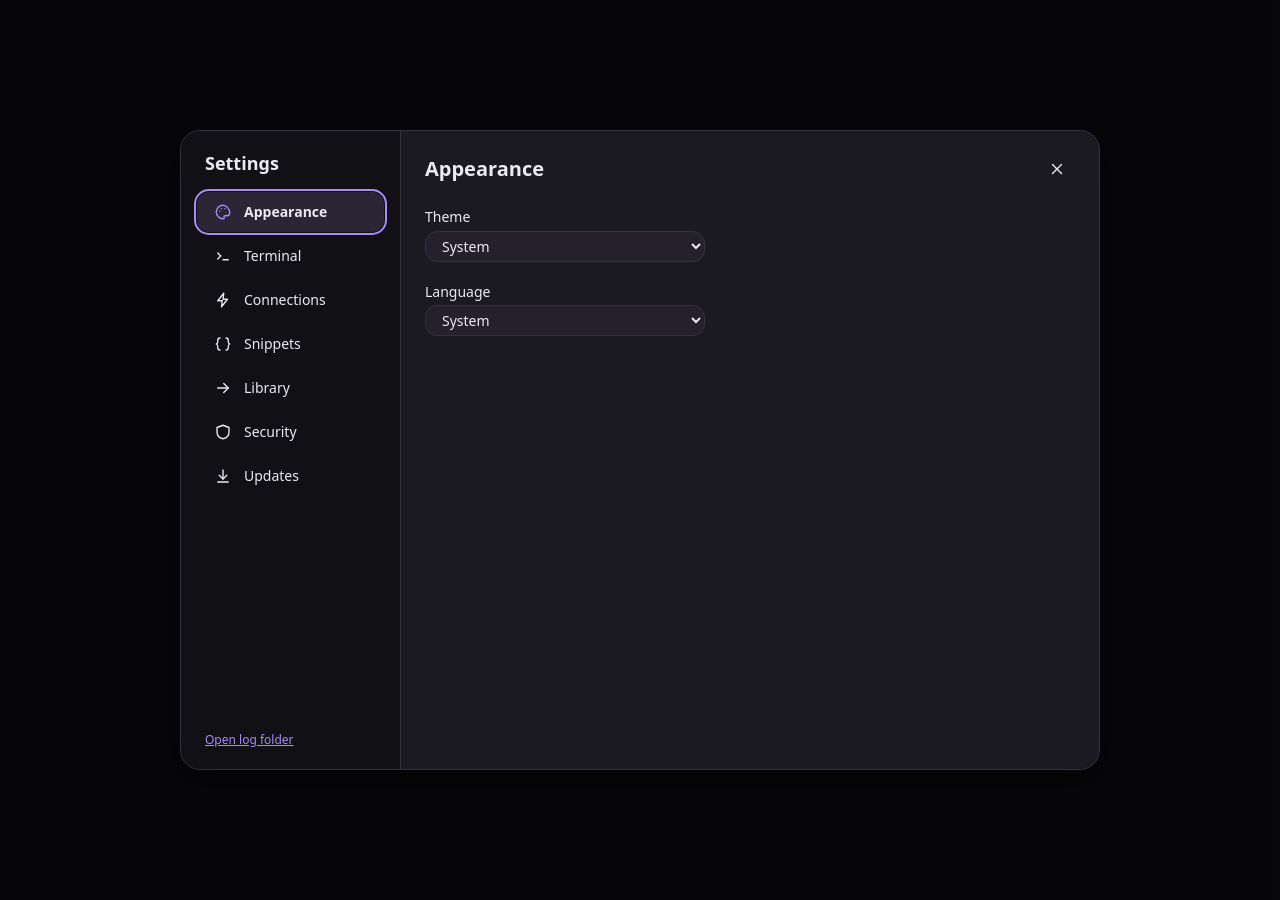
Test: font size outside 8..32 rejected
The width and height of the screenshot is (1280, 900).
Click the button "Terminal" at [290, 256], box [197, 236, 384, 276]
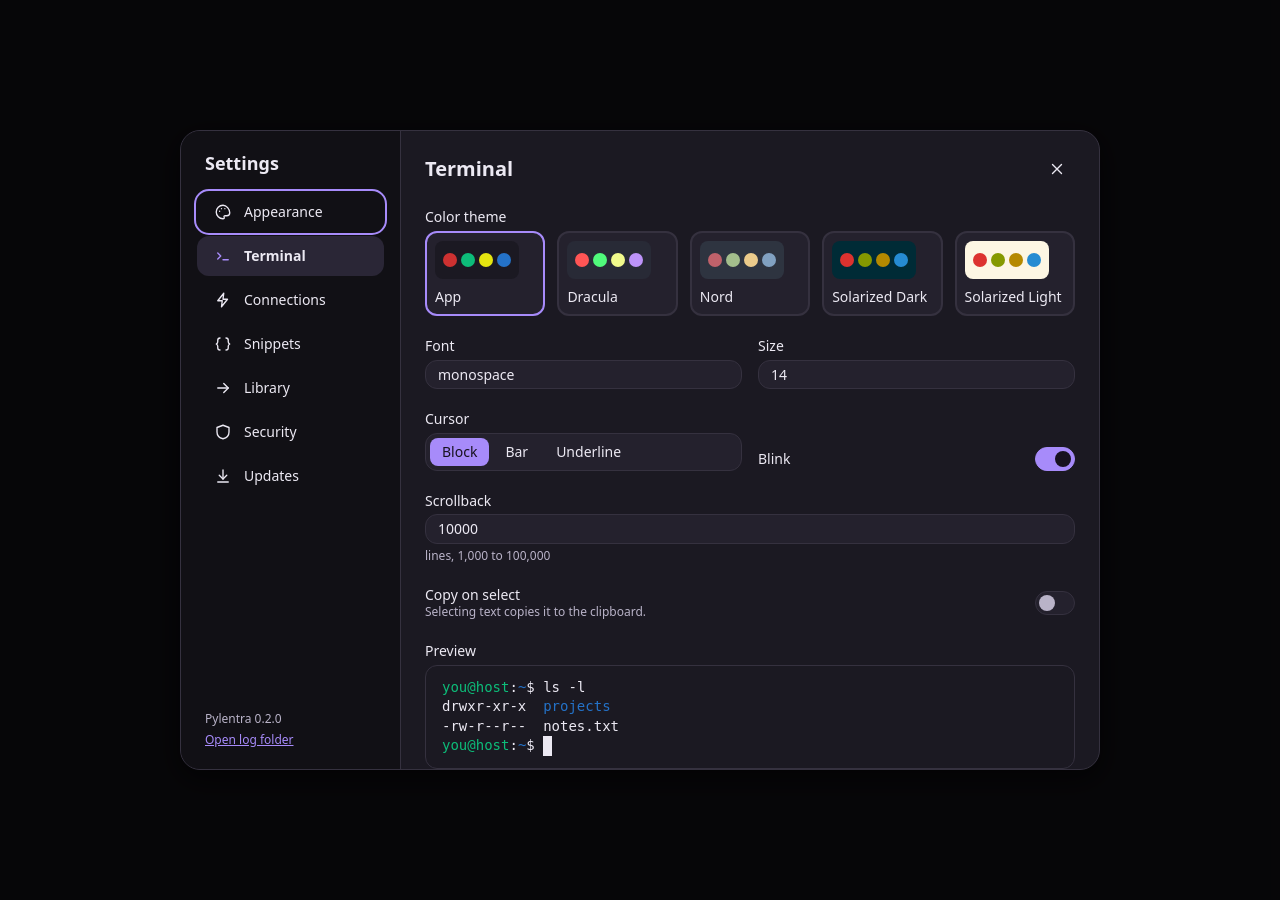
Replace the text in the number field labelled "Size" with "7" at [916, 375], box [758, 360, 1075, 389]
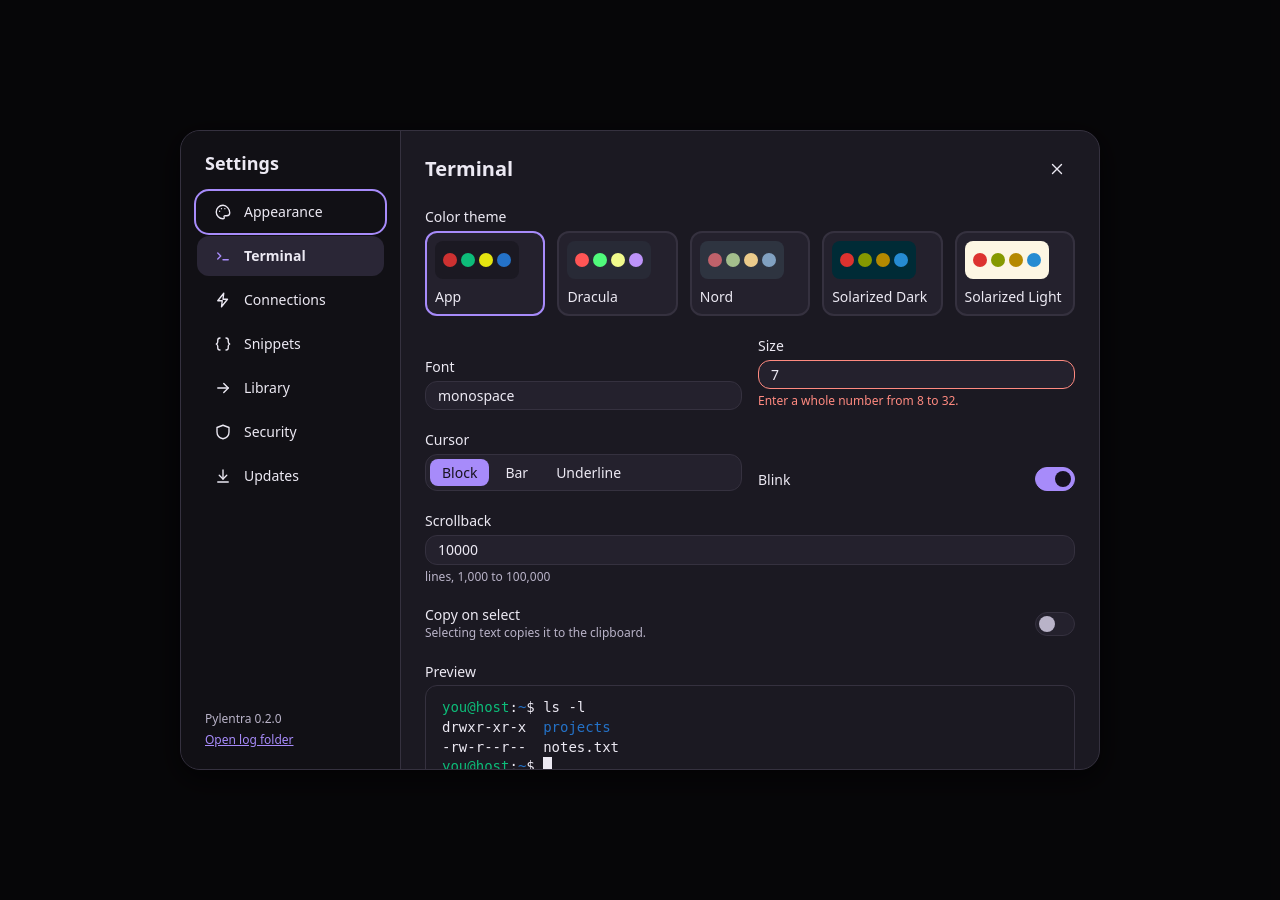
Check: the text "Enter a whole number from 8 to 32." is shown, box [758, 392, 959, 409]
Replace the text in the number field labelled "Size" with "33" at [916, 375], box [758, 360, 1075, 389]
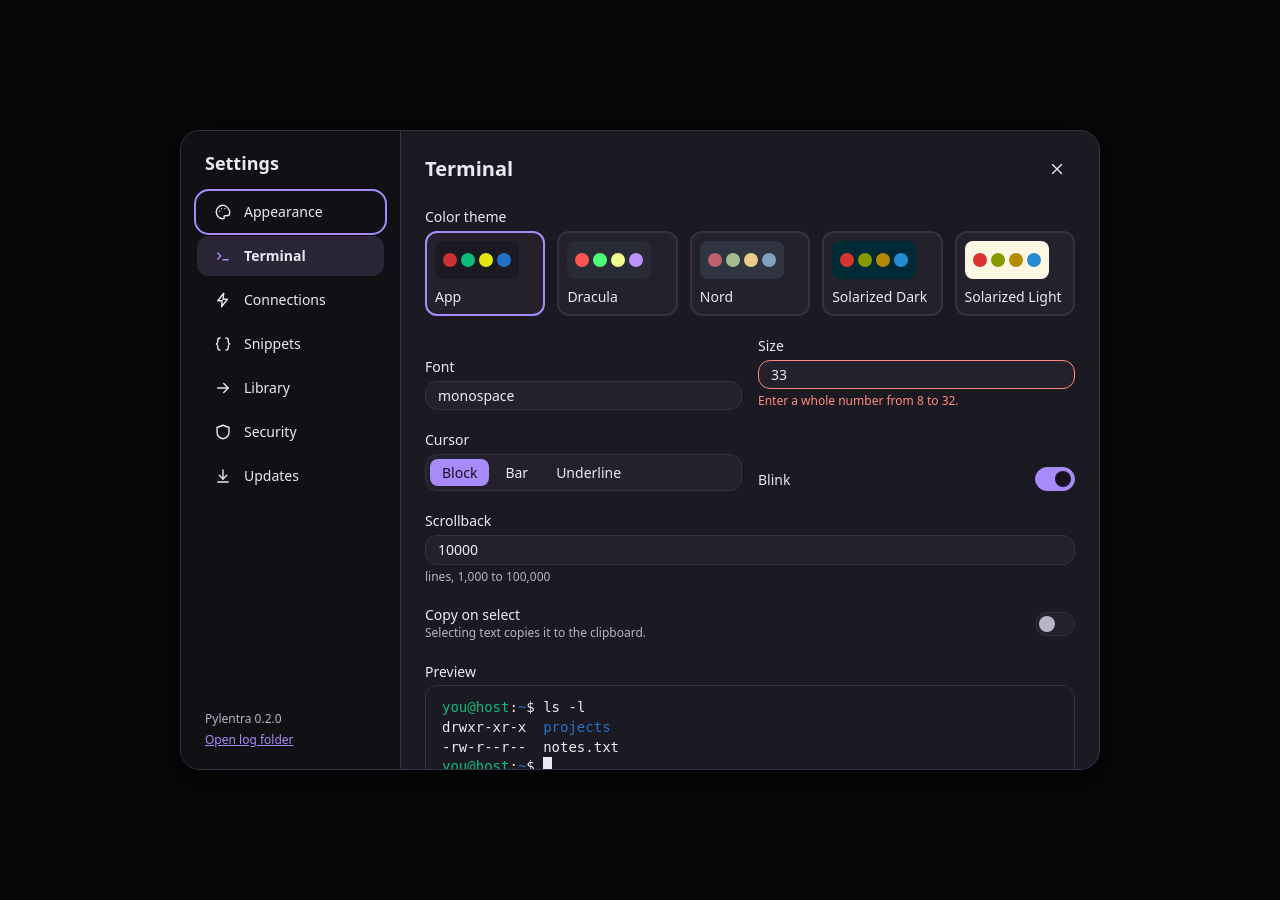
Check: the text "Enter a whole number from 8 to 32." is shown, box [758, 392, 959, 409]
Clear the number field labelled "Size" at [916, 375], box [758, 360, 1075, 389]
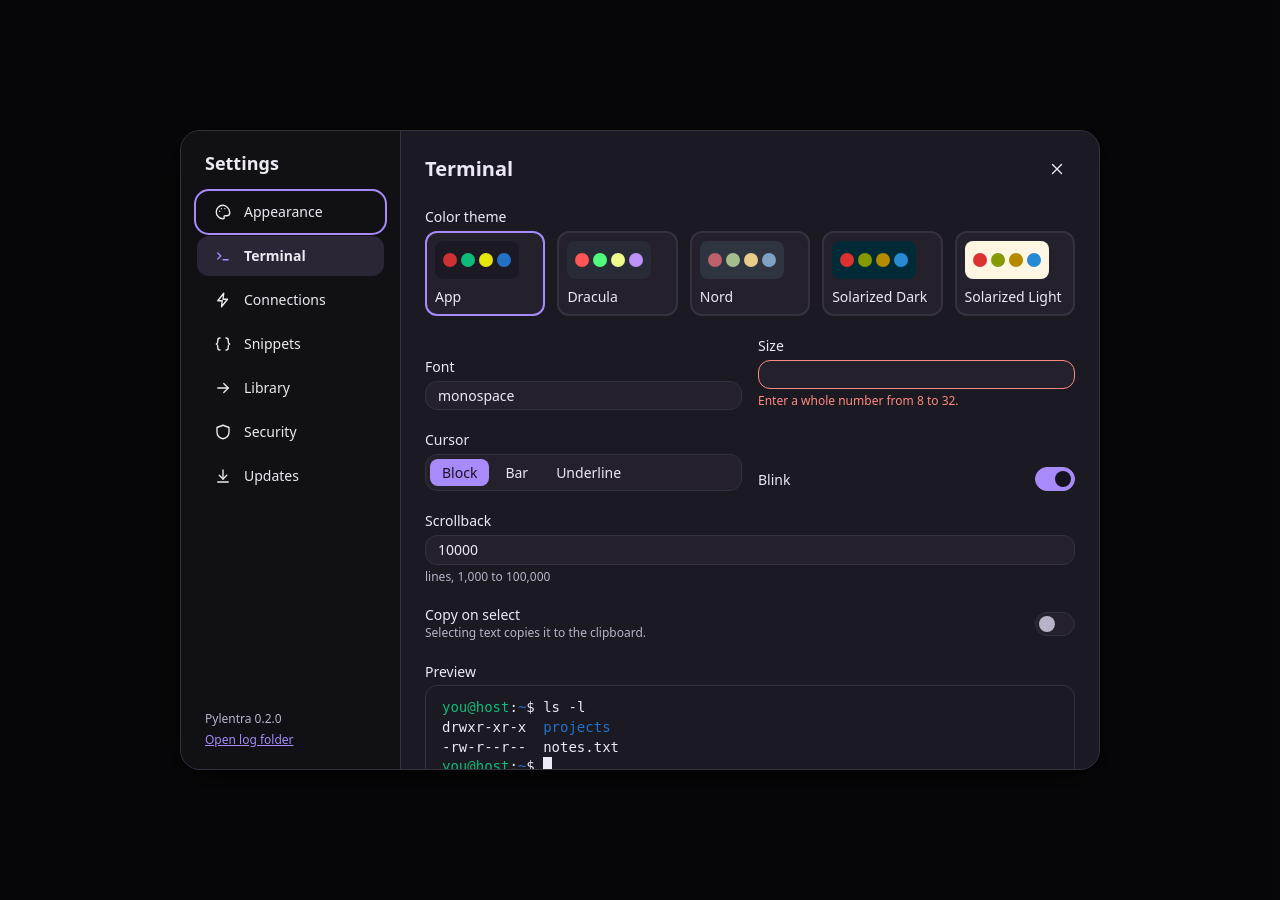
Check: the text "Enter a whole number from 8 to 32." is shown, box [758, 392, 959, 409]
Type "12.5" into the number field labelled "Size" at [916, 375], box [758, 360, 1075, 389]
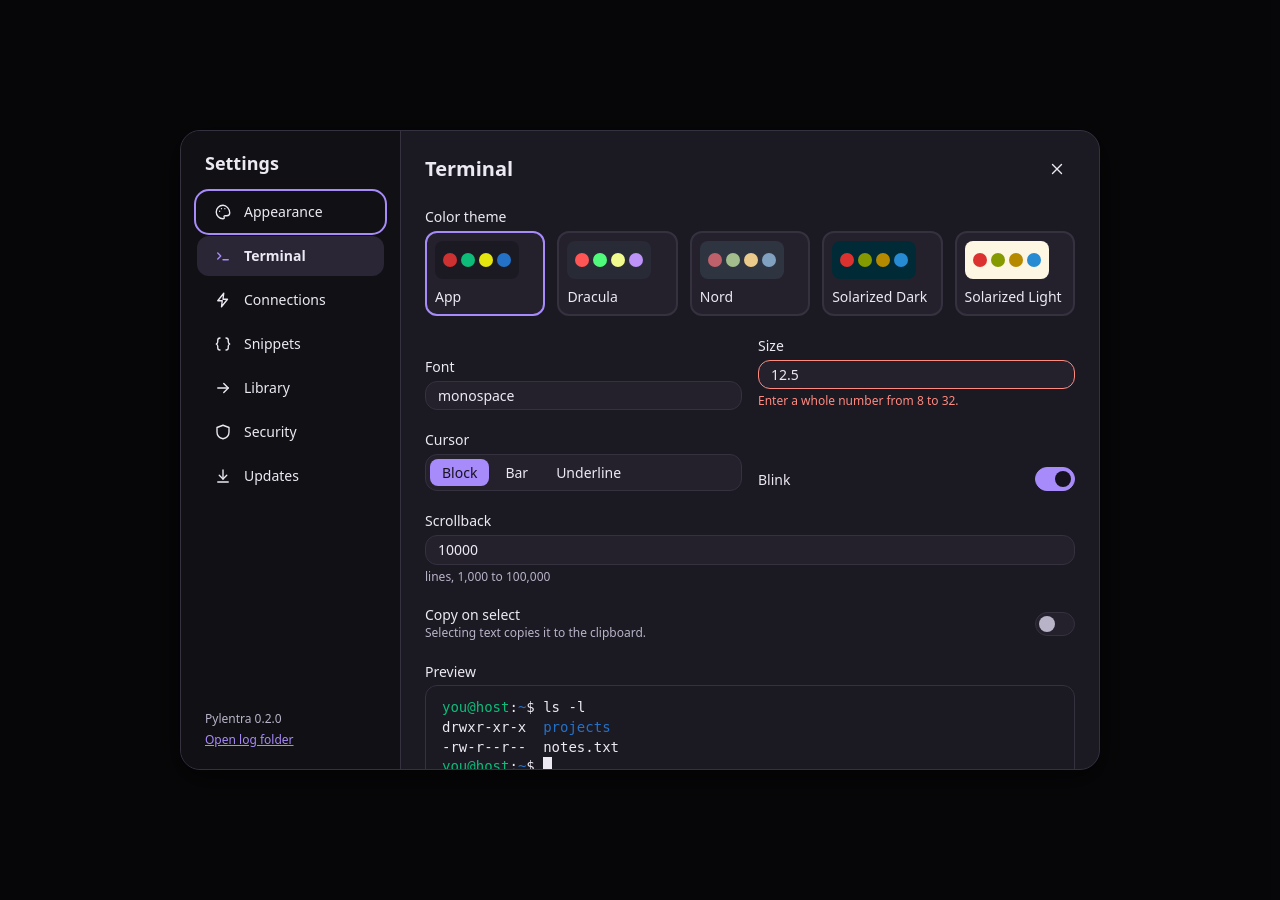
Check: the text "Enter a whole number from 8 to 32." is shown, box [758, 392, 959, 409]
Replace the text in the number field labelled "Size" with "20" at [916, 375], box [758, 360, 1075, 389]
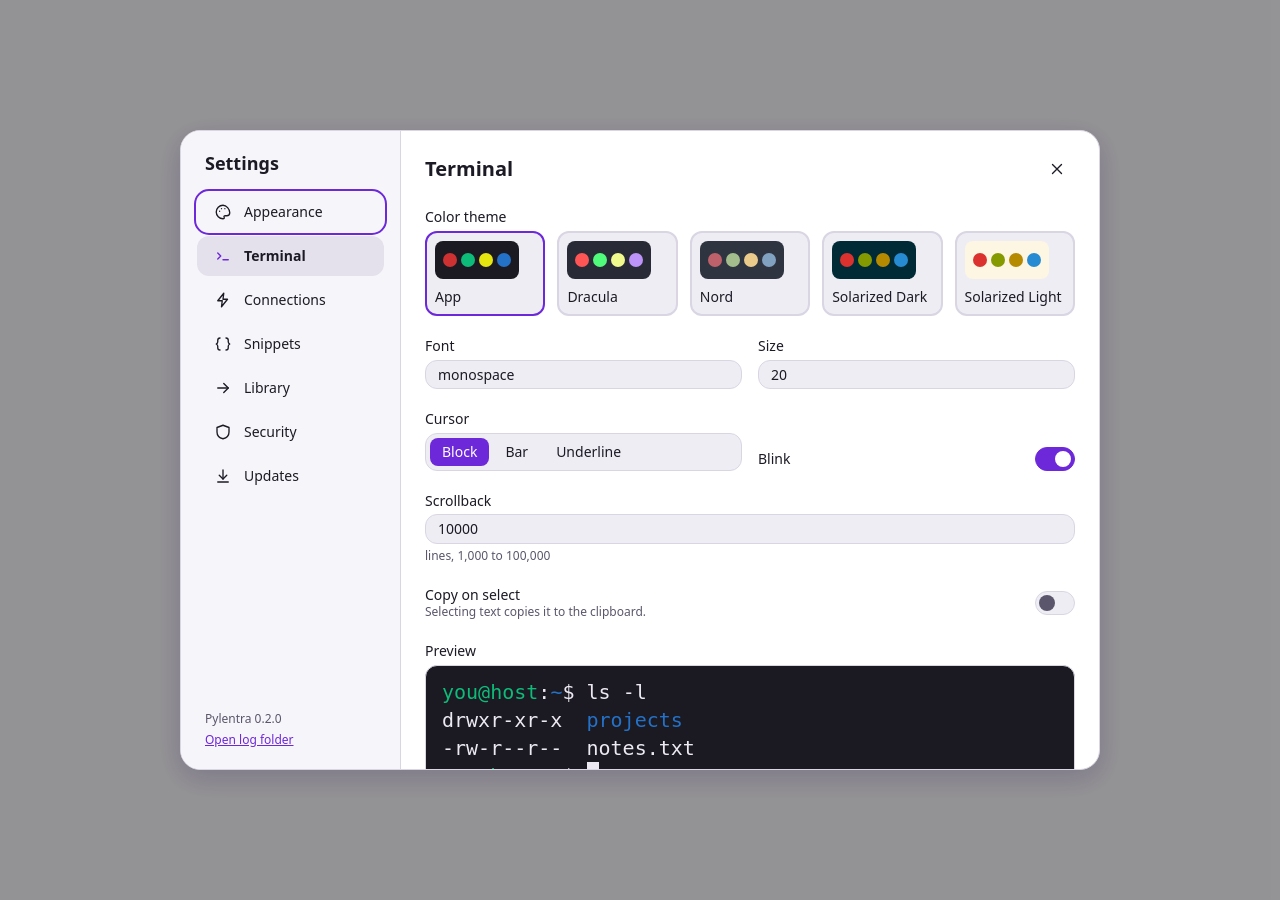
Check: the text "Enter a whole number from 8 to 32." is gone
